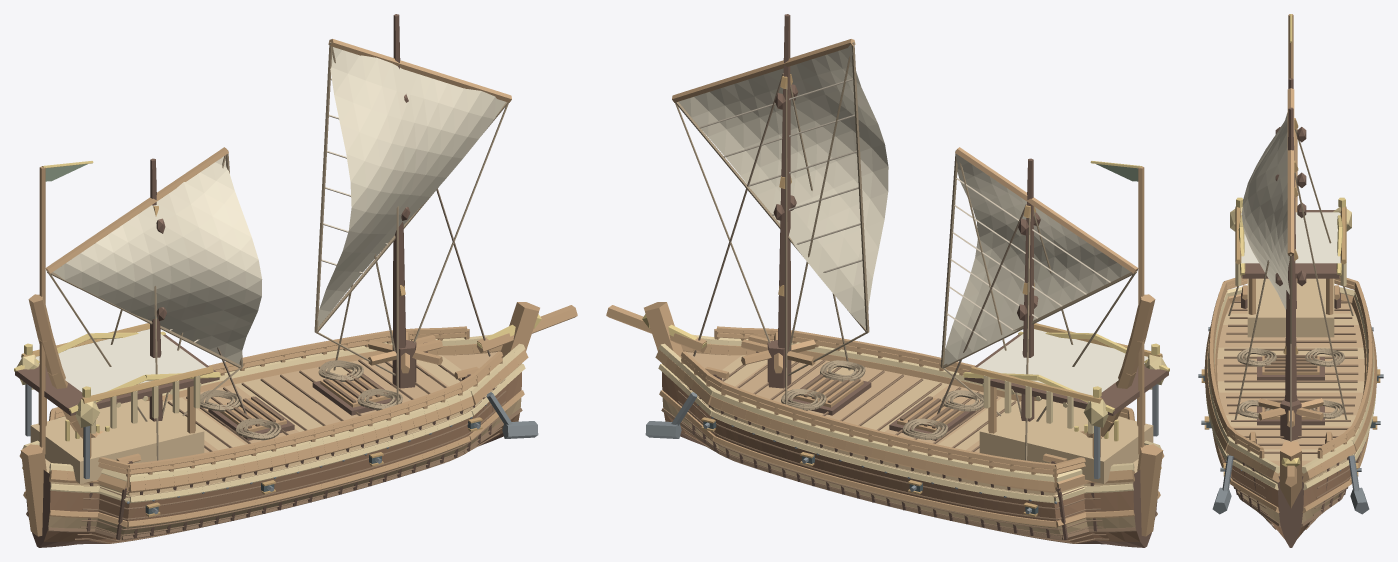
The model's file is baghlah-v5-mobile.glb.
3 views of the same model, side by side, from view 1: azimuth 30°, elevation 25°; view 2: azimuth 150°, elevation 25°; view 3: azimuth 270°, elevation 25° (orthographic). The views are drawn at different scales.
Visible parts, largest first — view 1: baghlah_sails_sail, baghlah_hull_wood, baghlah_hull_pale, baghlah_hull_hull2, baghlah_railings_wood, baghlah_hull_seam, baghlah_deck_decklight, baghlah_ornament_sailbright, baghlah_hull_deck, baghlah_rigging_rope, baghlah_hull_pine, baghlah_rigging_wood (+16 smaller); view 2: baghlah_sails_sail, baghlah_hull_wood, baghlah_hull_pale, baghlah_hull_hull2, baghlah_railings_wood, baghlah_hull_seam, baghlah_deck_decklight, baghlah_rigging_rope, baghlah_masts_darkwood, baghlah_ornament_sailbright, baghlah_hull_deck, baghlah_hull_pine (+18 smaller); view 3: baghlah_hull_deck, baghlah_sails_sail, baghlah_hull_wood, baghlah_hull_seam, baghlah_deck_decklight, baghlah_hull_decklight, baghlah_railings_wood, baghlah_hull_pale, baghlah_ornament_sailbright, baghlah_masts_darkwood, baghlah_fittings_wood, baghlah_fittings_darkwood (+18 smaller).
Part boxes in pixels (left/top/right/bottom): baghlah_sails_sail: left=53, top=47, right=505, bottom=364; baghlah_hull_wood: left=19, top=302, right=577, bottom=536; baghlah_hull_pale: left=22, top=334, right=525, bottom=503; baghlah_hull_hull2: left=44, top=372, right=521, bottom=543; baghlah_railings_wood: left=49, top=326, right=502, bottom=487; baghlah_hull_seam: left=26, top=359, right=522, bottom=543; baghlah_deck_decklight: left=30, top=399, right=204, bottom=483; baghlah_ornament_sailbright: left=35, top=329, right=206, bottom=395; baghlah_hull_deck: left=182, top=352, right=496, bottom=452; baghlah_rigging_rope: left=47, top=42, right=508, bottom=421; baghlah_hull_pine: left=48, top=351, right=521, bottom=537; baghlah_rigging_wood: left=45, top=39, right=511, bottom=273; baghlah_sails_sail: left=678, top=44, right=1130, bottom=364; baghlah_hull_wood: left=606, top=302, right=1164, bottom=536; baghlah_hull_pale: left=658, top=334, right=1161, bottom=503; baghlah_hull_hull2: left=662, top=372, right=1139, bottom=543; baghlah_railings_wood: left=681, top=326, right=1134, bottom=487; baghlah_hull_seam: left=661, top=359, right=1157, bottom=543; baghlah_deck_decklight: left=979, top=399, right=1153, bottom=483; baghlah_rigging_rope: left=675, top=42, right=1136, bottom=421; baghlah_masts_darkwood: left=773, top=14, right=1040, bottom=421; baghlah_ornament_sailbright: left=977, top=329, right=1148, bottom=395; baghlah_hull_deck: left=687, top=352, right=1001, bottom=452; baghlah_hull_pine: left=662, top=351, right=1135, bottom=537; baghlah_hull_deck: left=1217, top=303, right=1364, bottom=466; baghlah_sails_sail: left=1242, top=112, right=1289, bottom=309; baghlah_hull_wood: left=1204, top=293, right=1377, bottom=513; baghlah_hull_seam: left=1217, top=301, right=1364, bottom=529; baghlah_deck_decklight: left=1247, top=278, right=1334, bottom=337; baghlah_hull_decklight: left=1217, top=313, right=1364, bottom=460; baghlah_railings_wood: left=1208, top=276, right=1373, bottom=458; baghlah_hull_pale: left=1205, top=285, right=1376, bottom=490; baghlah_ornament_sailbright: left=1241, top=212, right=1340, bottom=263; baghlah_masts_darkwood: left=1275, top=78, right=1306, bottom=402; baghlah_fittings_wood: left=1242, top=285, right=1339, bottom=443; baghlah_fittings_darkwood: left=1241, top=292, right=1340, bottom=443.
Bounding box in the file's own units: 52.12 × 41 × 17.38.
